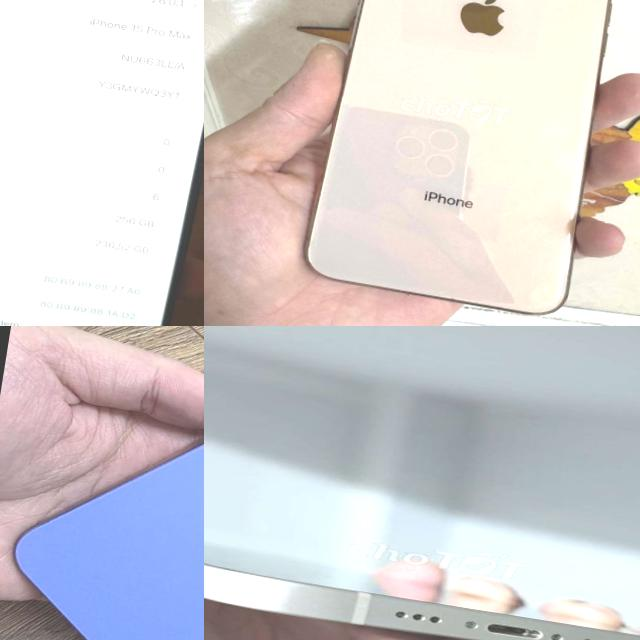scratch: (529, 283, 574, 315), (552, 240, 574, 258)
